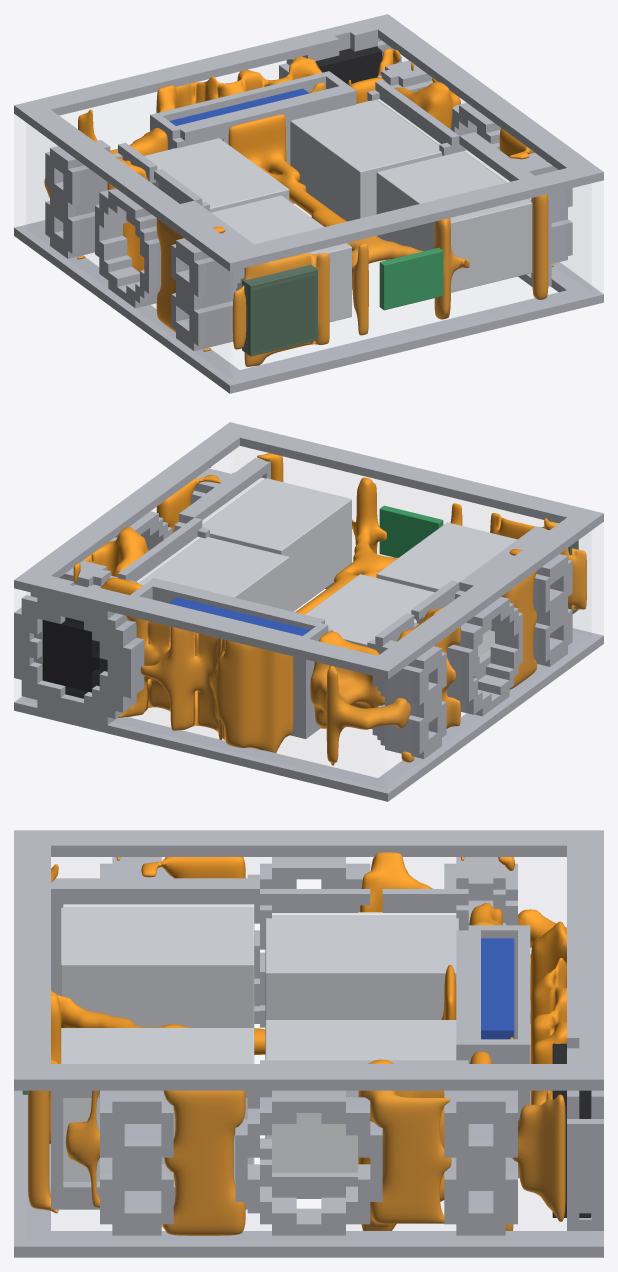
File: structure-n48_m120_p5.glb
3 renders of one model, top to bottom at view 1: azimuth 30°, elevation 25°; view 2: azimuth 150°, elevation 25°; view 3: azimuth 270°, elevation 25°, orthographic. The views are drawn at different scales.
Parts seen in each view (by area): view 1: fixed, structure, servo_Ap, servo_Bp, patch, servo_Bn, servo_An, skin, xbee, camera, battery; view 2: fixed, structure, servo_Ap, servo_Bp, servo_An, servo_Bn, camera, xbee, battery, skin; view 3: fixed, structure, servo_An, servo_Bn, servo_Bp, servo_Ap, plate_Bp, battery, plate_Ap, camera, plate_An.
Boxes of the visible parts, x1,y1,x2,y2 form: fixed: (14,14,603,393); structure: (44,48,553,366); servo_Ap: (376,151,532,292); servo_Bp: (290,100,443,221); patch: (242,264,317,356); servo_Bn: (144,138,289,212); servo_An: (211,195,351,322); skin: (26,123,591,291); xbee: (379,247,443,310); camera: (315,46,382,84); battery: (169,88,309,125); fixed: (14,422,603,801); structure: (73,453,586,765); servo_Ap: (202,478,351,611); servo_Bp: (138,537,289,610); servo_An: (376,522,517,592); servo_Bn: (305,574,434,646); camera: (43,617,107,698); xbee: (379,505,443,557); battery: (169,597,310,635); skin: (26,531,591,673); fixed: (14,830,603,1257); structure: (28,852,566,1235); servo_An: (61,907,254,1027); servo_Bn: (265,915,458,1019); servo_Bp: (265,1020,456,1060); servo_Ap: (61,1028,254,1063); plate_Bp: (265,1090,358,1172); battery: (481,938,514,1039); plate_Ap: (63,1098,254,1181); camera: (552,1043,591,1217); plate_An: (63,904,254,907).
Size of the model in its own units: 138 by 46 by 138.
